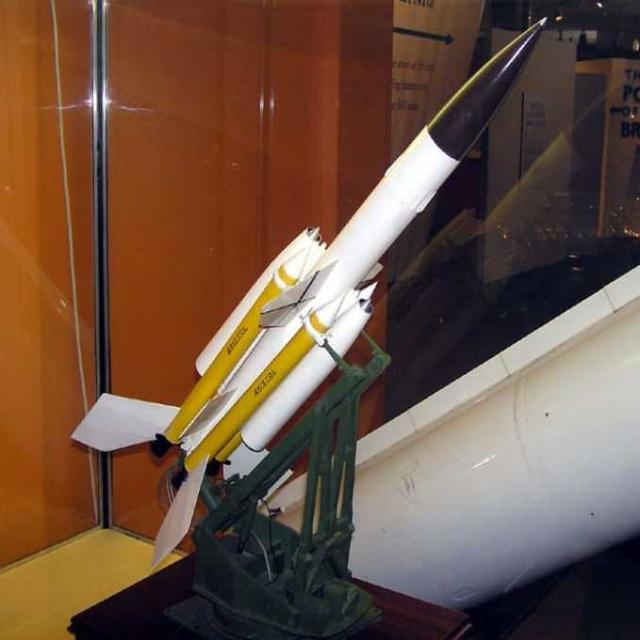missile: (68, 11, 553, 534)
